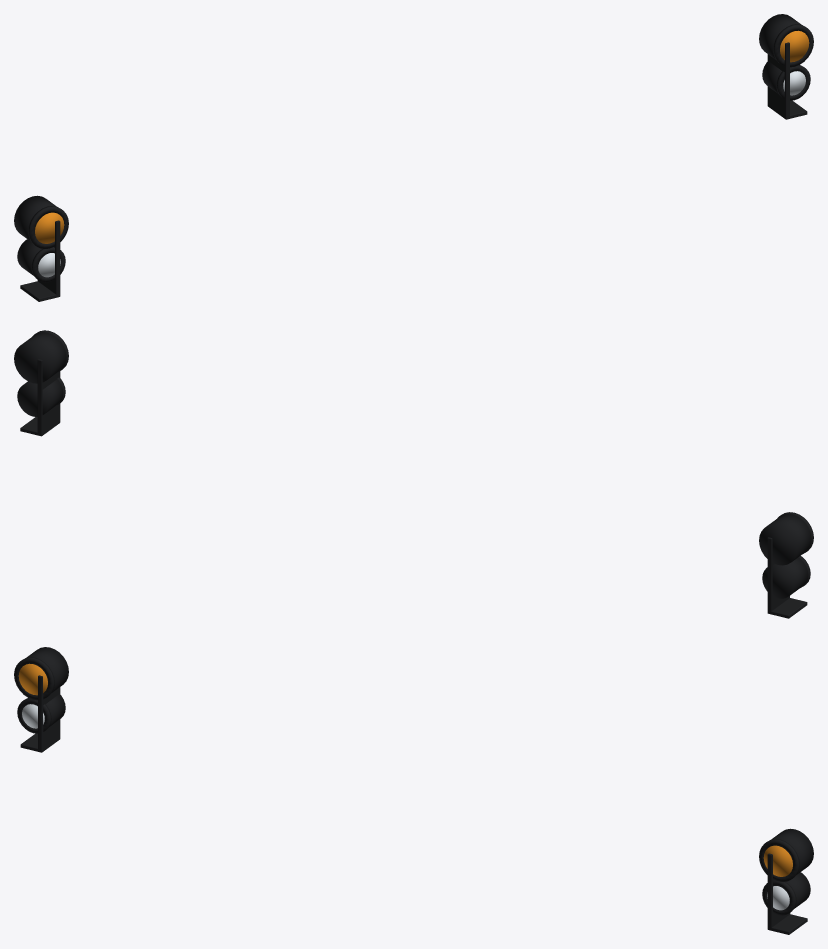
Rendered from pillarPods.glb.
3 renders of one model, top to bottom at view 1: azimuth 30°, elevation 25°; view 2: azimuth 150°, elevation 25°; view 3: azimuth 330°, elevation 25°, orthographic.
Parts seen in each view (by area): view 1: bracket1.007, hsg11205, hsg-11205, bezel11205, bezel-11205, lens-11205, lens11205, bracket-1.007; view 2: hsg11205, hsg-11205, hsg-11140, hsg11140, bracket1.007, bracket-1.007; view 3: bracket-1.007, hsg-11205, hsg11205, bezel-11205, bezel11205, lens11205, lens-11205, bracket1.007.
Part boxes in pixels (x1,y1,x2,y2): bracket1.007: [767, 42, 789, 116]; hsg11205: [759, 14, 801, 59]; hsg-11205: [14, 195, 56, 241]; bezel11205: [773, 24, 813, 67]; bezel-11205: [28, 206, 68, 248]; lens-11205: [35, 212, 64, 243]; lens11205: [780, 30, 809, 62]; bracket-1.007: [37, 220, 60, 294]; hsg11205: [14, 332, 66, 383]; hsg-11205: [759, 514, 811, 565]; hsg-11140: [762, 557, 808, 598]; hsg11140: [17, 379, 63, 416]; bracket1.007: [37, 359, 60, 433]; bracket-1.007: [767, 537, 789, 611]; bracket-1.007: [38, 675, 60, 749]; hsg-11205: [26, 647, 68, 692]; hsg11205: [771, 828, 813, 874]; bezel-11205: [14, 657, 54, 700]; bezel11205: [759, 839, 799, 881]; lens11205: [763, 845, 792, 876]; lens-11205: [18, 663, 47, 695]; bracket1.007: [767, 853, 790, 927].
Bounding box in the file's own units: 1.45 × 0.16 × 0.06.
